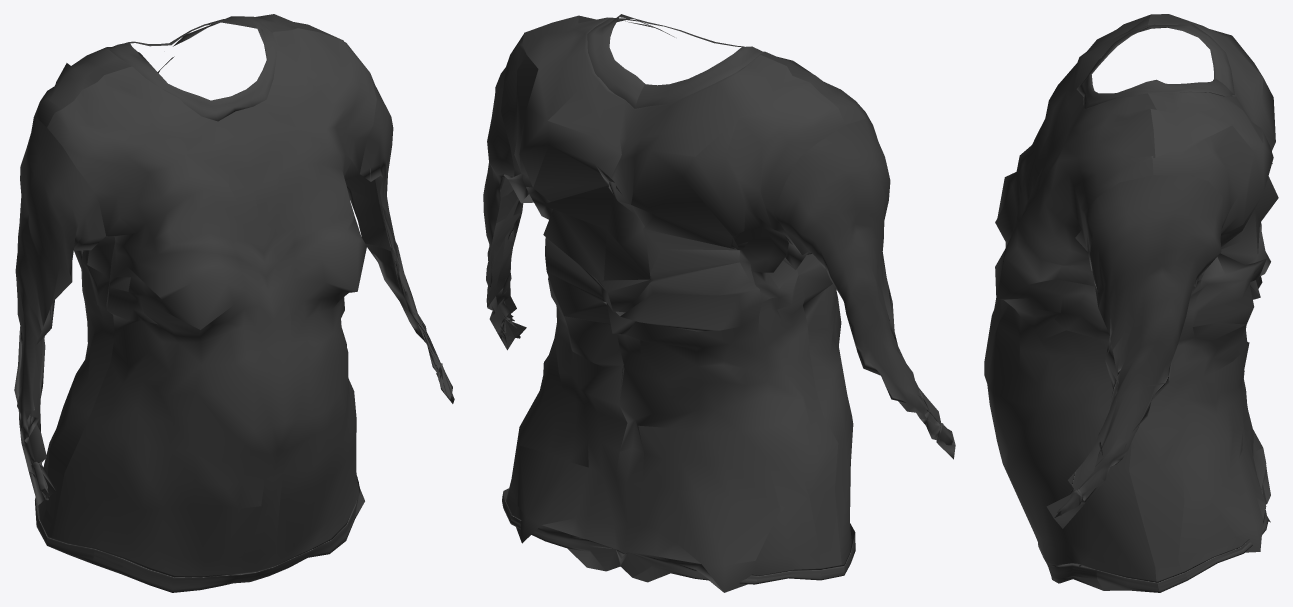
Rendered from cc_sweater.glb.
3 renders of one model, left to right at view 1: azimuth 30°, elevation 25°; view 2: azimuth 150°, elevation 25°; view 3: azimuth 270°, elevation 25°, orthographic. The views are drawn at different scales.
Parts seen in each view (by area): view 1: geometry_0; view 2: geometry_0; view 3: geometry_0.
Part boxes in pixels (box(x1,y1,x2,y2)): geometry_0: box(14, 14, 454, 592); geometry_0: box(483, 14, 955, 592); geometry_0: box(984, 14, 1278, 592).
Bounding box in the file's own units: 0.2918 × 0.3391 × 0.1814.
Materials: 1 (1 with a texture image).
